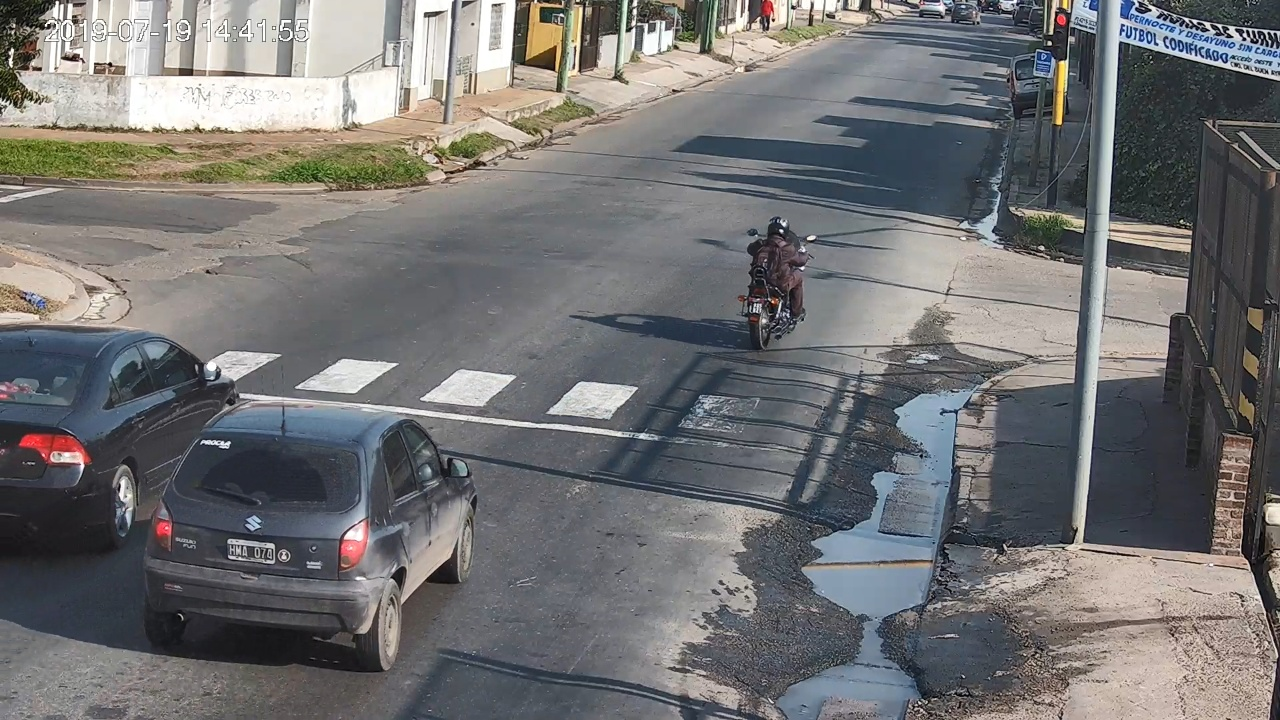car: (143, 403, 479, 671)
motorcycle: (738, 229, 817, 351)
traffic light: (1055, 11, 1068, 59)
